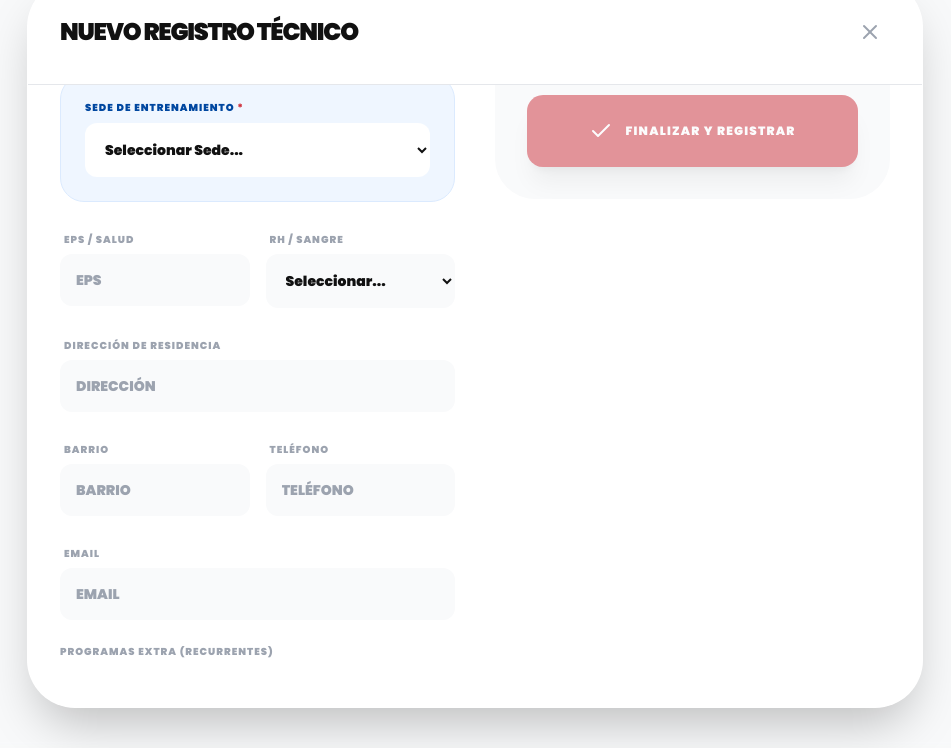
Test: FormularioEstudiante › muestra advertencia de duplicado cuando buscarEstudianteDuplicado resuelve un match en el blur de correo
(page scrolled)
Type "pedro@test.com" into the field with placeholder "Email".
click(258, 594); type("pedro@test.com")  # box [60,568,455,620]
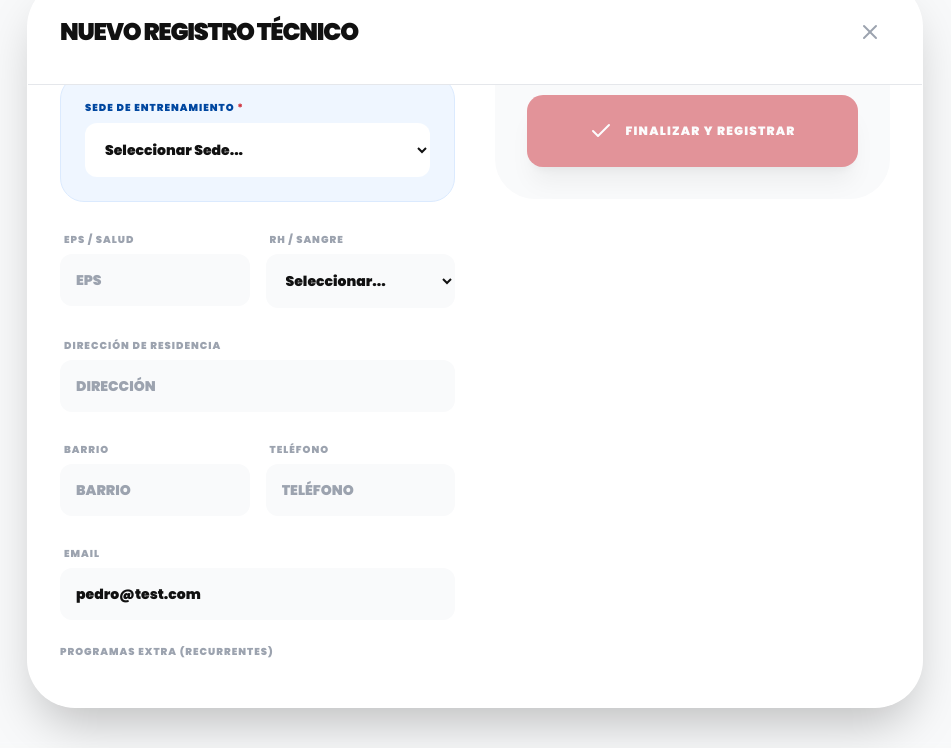
Leave the field with placeholder "Email", box [60,568,455,620]
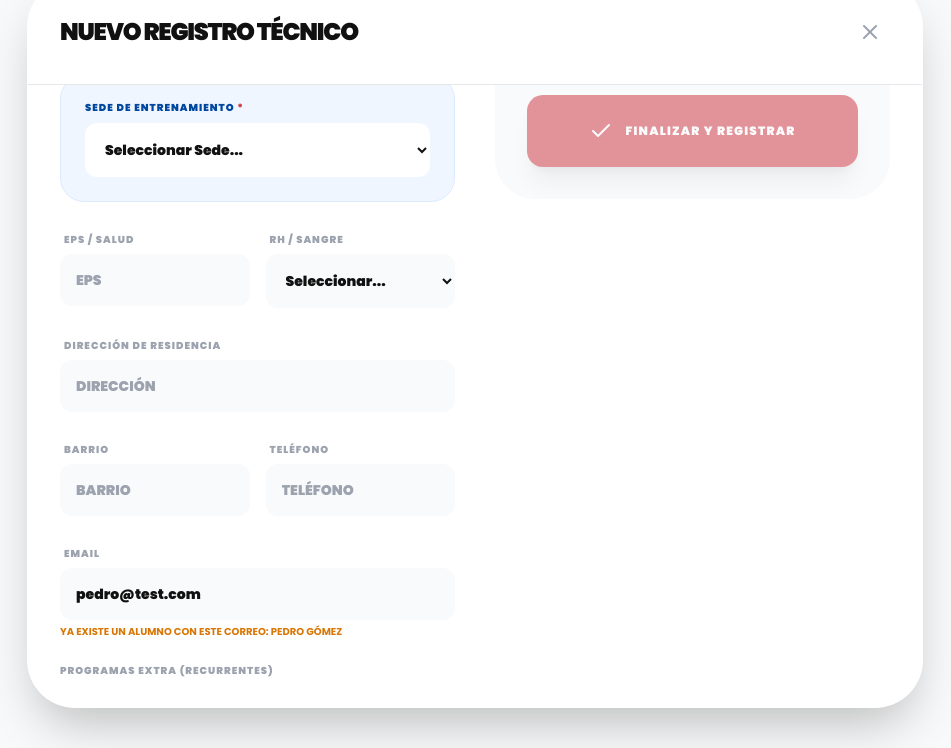
Now the text "Ya existe un alumno con este correo: Pedro Gómez" is shown, box [60,624,342,638]
